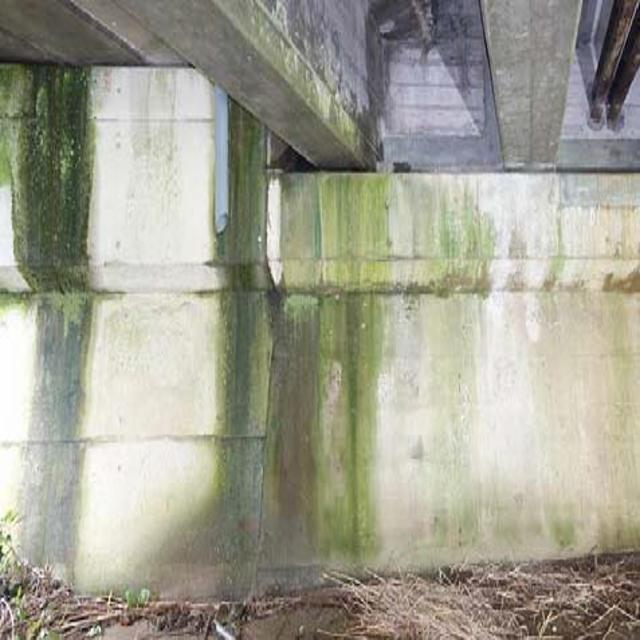leakage: (180, 67, 376, 597), (0, 50, 111, 572)
